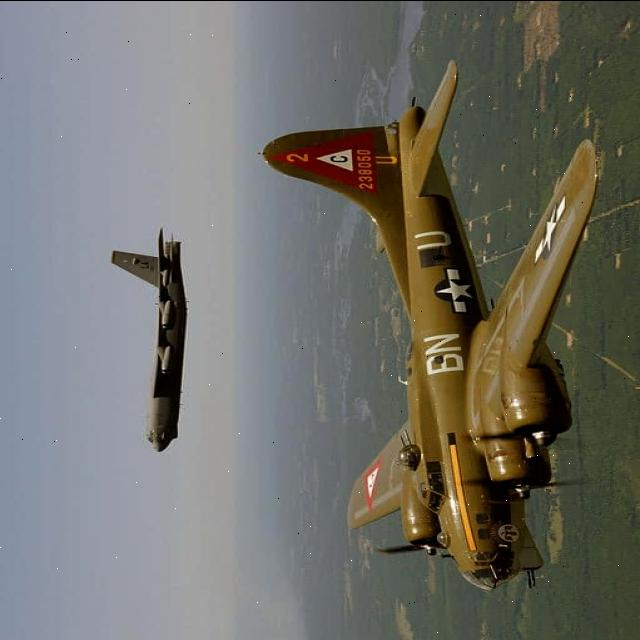B52: (255, 31, 634, 631), (100, 195, 226, 466)
